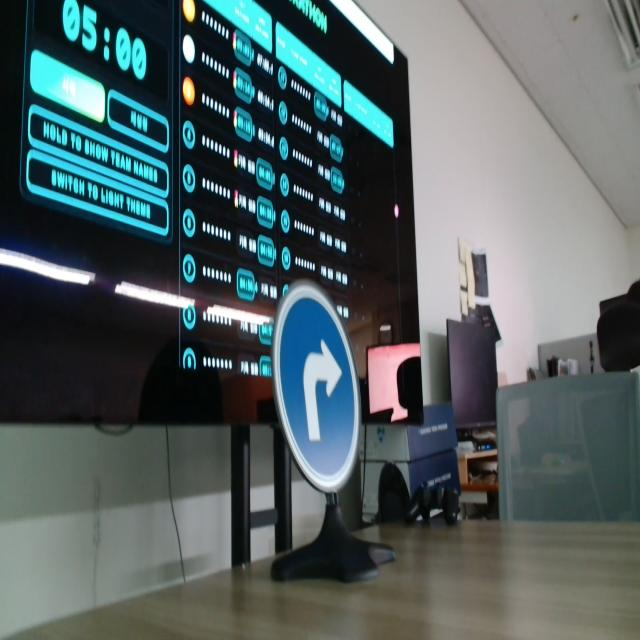right_dierection: (268, 274, 374, 518)
